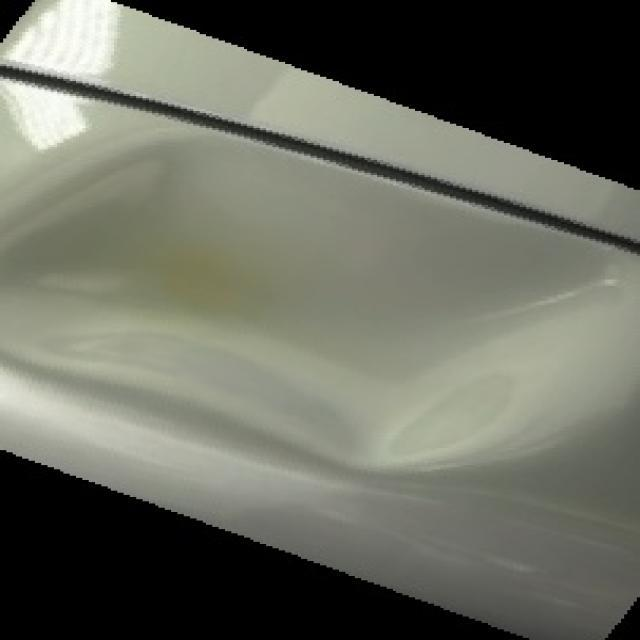dent: (4, 142, 628, 477)
